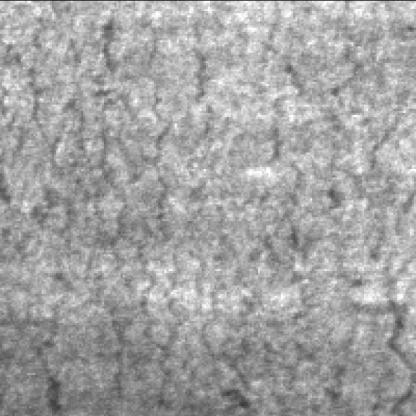crazing: (4, 19, 223, 407), (226, 29, 410, 408)
